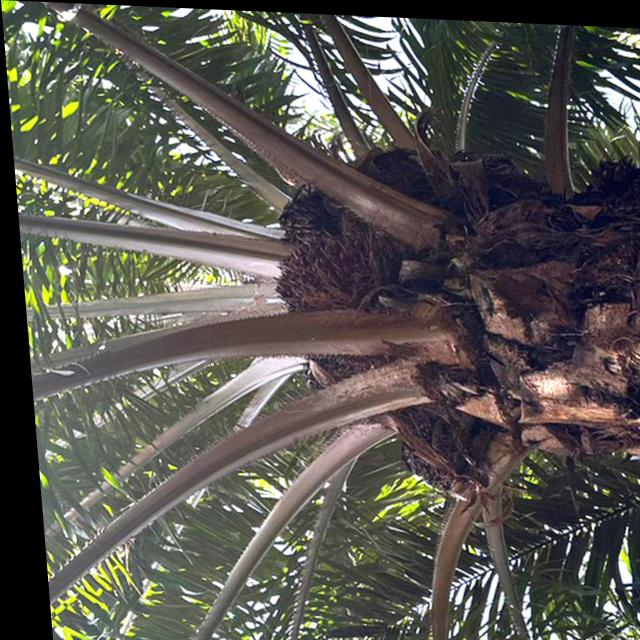ripe: (252, 195, 387, 338)
